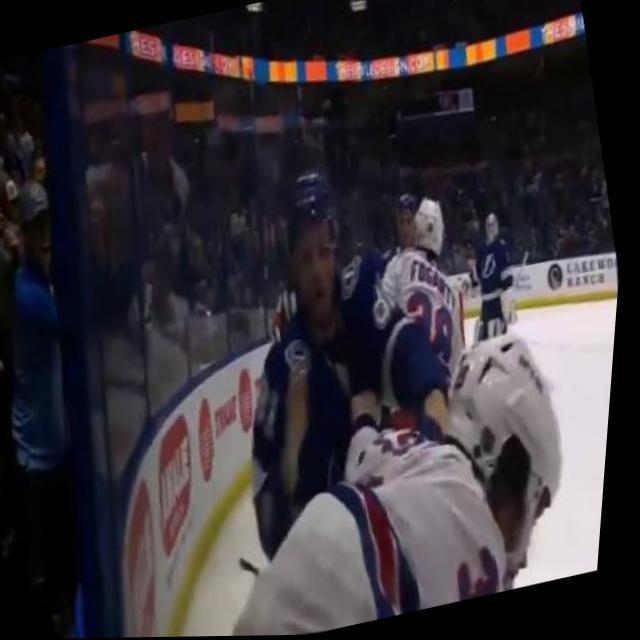fight: (172, 113, 627, 638)
